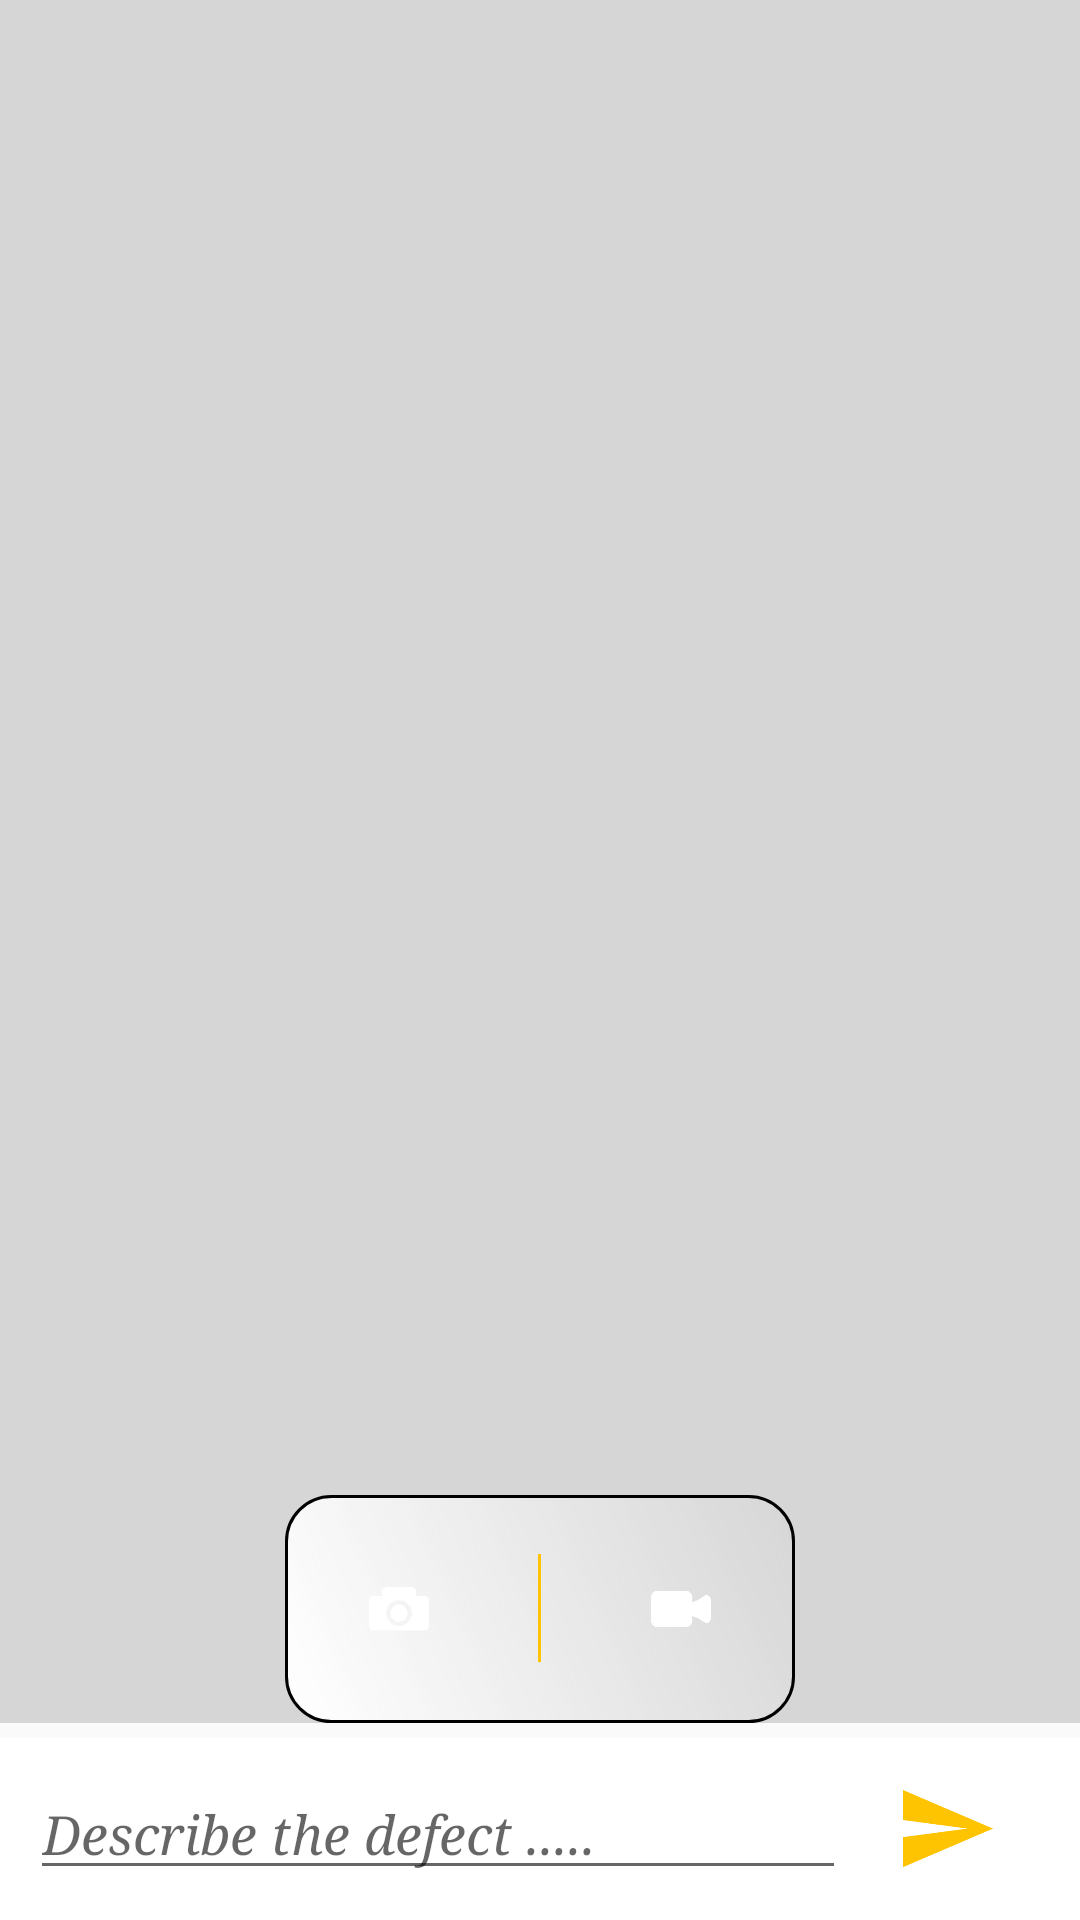

Where to tap for icons on this 1080x1920 app screen, as (x,y):
forward: (948,1828)
video: (681,1609)
